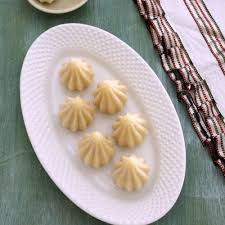modak: (110, 109, 154, 151), (57, 96, 104, 133), (78, 132, 117, 171), (94, 80, 133, 116), (116, 151, 151, 191), (57, 59, 97, 90)
